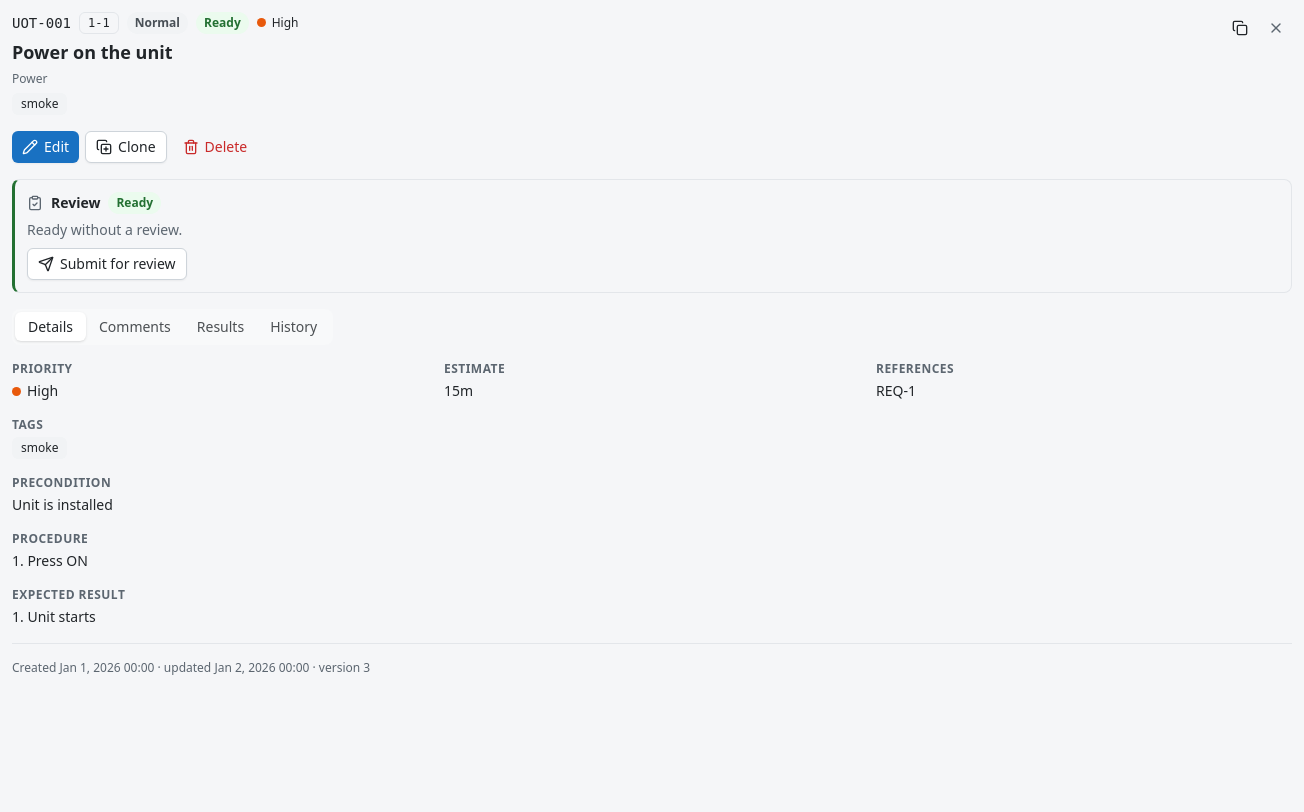
it: CaseDetail › shows the version history with the changed fields
Click the tab "History" at (294, 327), box [257,312,330,341]
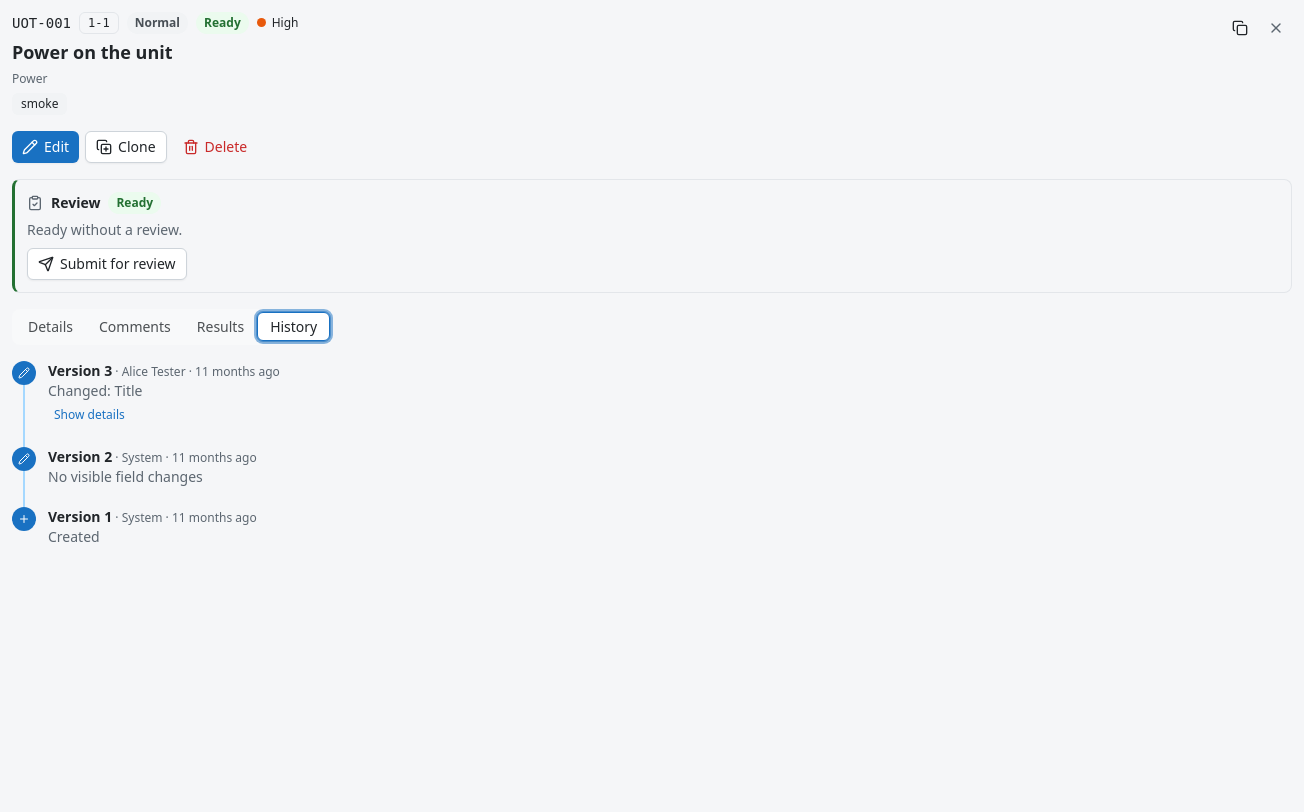
Expected: the text "Created" is shown, [48,527,100,546]
Expected: the text "Changed: Title" is shown, [48,381,142,400]
Expected: the text "No visible field changes" is shown, [48,467,203,486]
Click the button "Show details" at (89, 415), box [48,403,131,427]
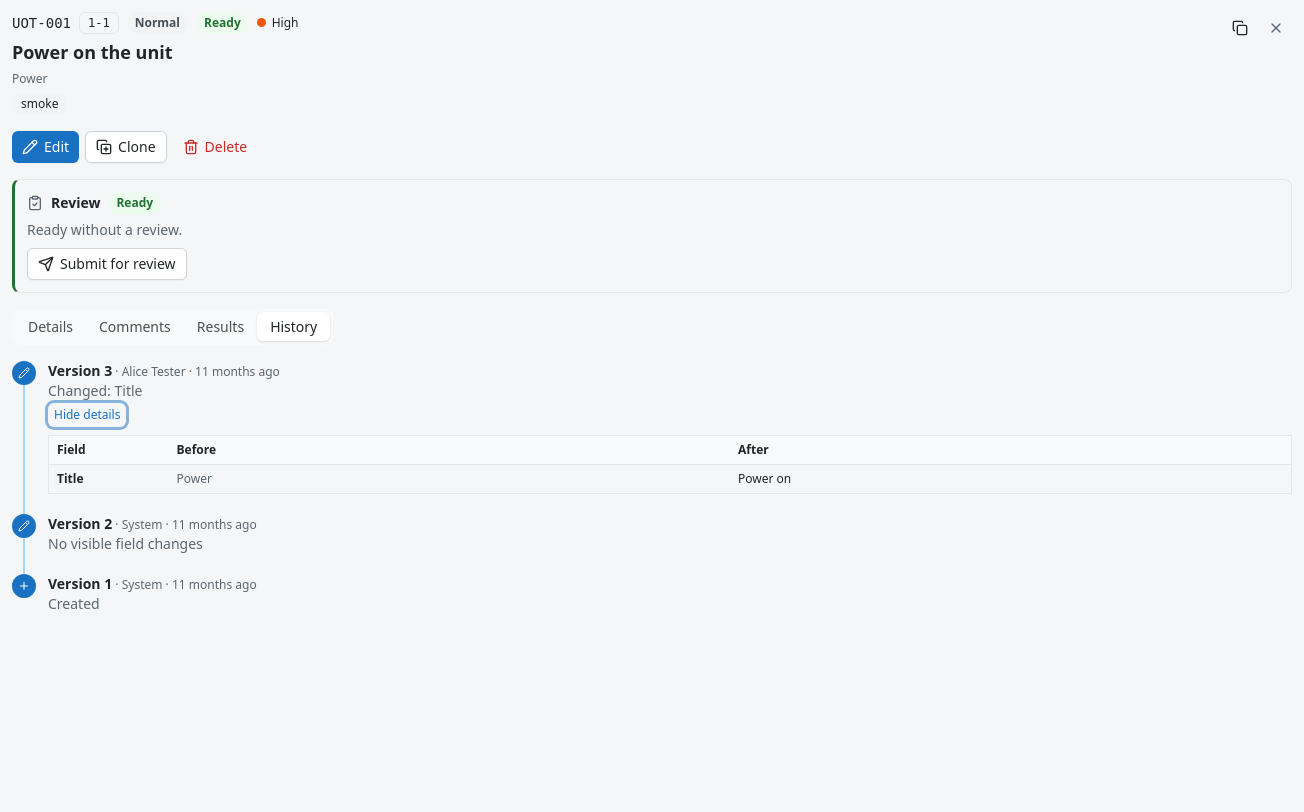
Expected: the cell "Power on" is shown, [730,464,1292,493]
Expected: the button "Hide details" is expanded, [48,403,126,427]
